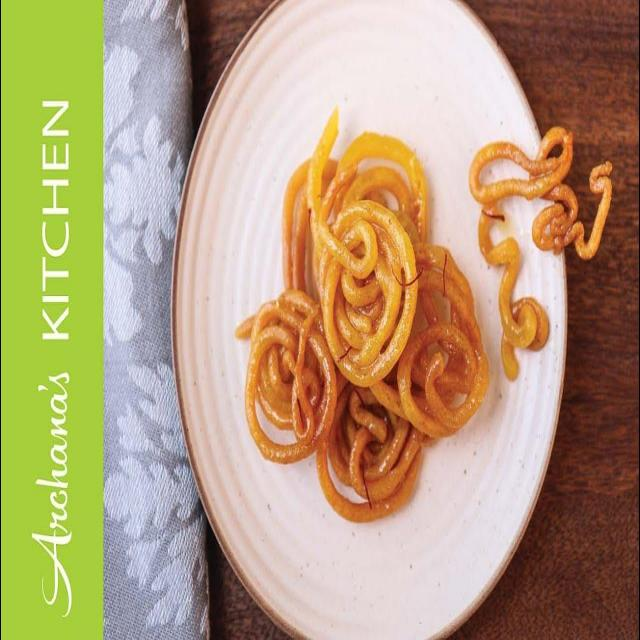jalebi: (253, 129, 484, 497), (456, 131, 604, 364)
